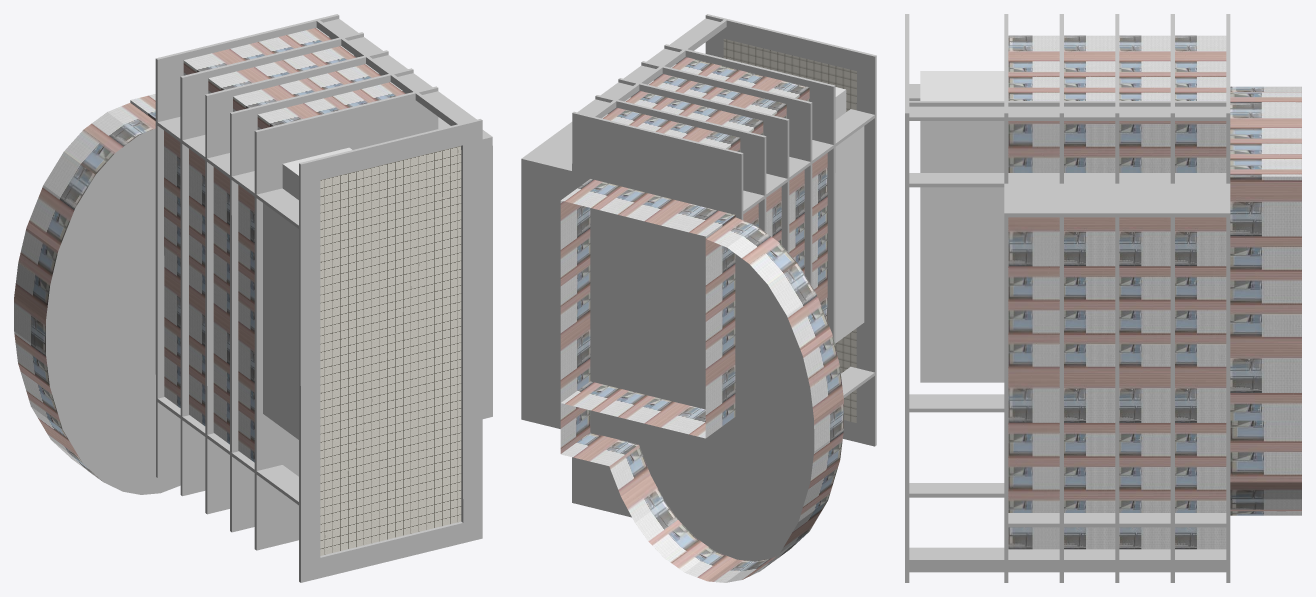
The picture shows the model from 3 angles, left to right: view 1: azimuth 30°, elevation 25°; view 2: azimuth 150°, elevation 25°; view 3: azimuth 270°, elevation 25°; orthographic projection. The views are drawn at different scales.
Parts seen in each view (by area): view 1: 教师宿舍 6.2, 教师宿舍 6.1, 教师宿舍 6.7, 教师宿舍 6.5, 教师宿舍 6.4, 教师宿舍 6.3; view 2: 教师宿舍 6.2, 教师宿舍 6.7, 教师宿舍 6.5, 教师宿舍 6.3, 教师宿舍 6.4, 教师宿舍 6.1; view 3: 教师宿舍 6.5, 教师宿舍 6.3, 教师宿舍 6.4, 教师宿舍 6.2, 教师宿舍 6.7.
Boxes of the visible parts, <box> form: 教师宿舍 6.2: <box>155,14,492,582</box>; 教师宿舍 6.1: <box>320,146,461,555</box>; 教师宿舍 6.7: <box>14,103,180,494</box>; 教师宿舍 6.5: <box>130,27,405,462</box>; 教师宿舍 6.4: <box>263,147,351,439</box>; 教师宿舍 6.3: <box>157,19,490,505</box>; 教师宿舍 6.2: <box>521,14,876,543</box>; 教师宿舍 6.7: <box>560,217,843,582</box>; 教师宿舍 6.5: <box>560,57,827,438</box>; 教师宿舍 6.3: <box>523,18,874,397</box>; 教师宿舍 6.4: <box>835,87,864,343</box>; 教师宿舍 6.1: <box>723,39,856,422</box>; 教师宿舍 6.5: <box>1008,35,1301,549</box>; 教师宿舍 6.3: <box>909,84,1226,572</box>; 教师宿舍 6.4: <box>920,71,1004,382</box>; 教师宿舍 6.2: <box>905,14,1230,582</box>; 教师宿舍 6.7: <box>1230,86,1301,515</box>.
Bounding box in the file's own units: 26.67 × 32.1 × 23.6.
Materials: 4 (2 with a texture image).
